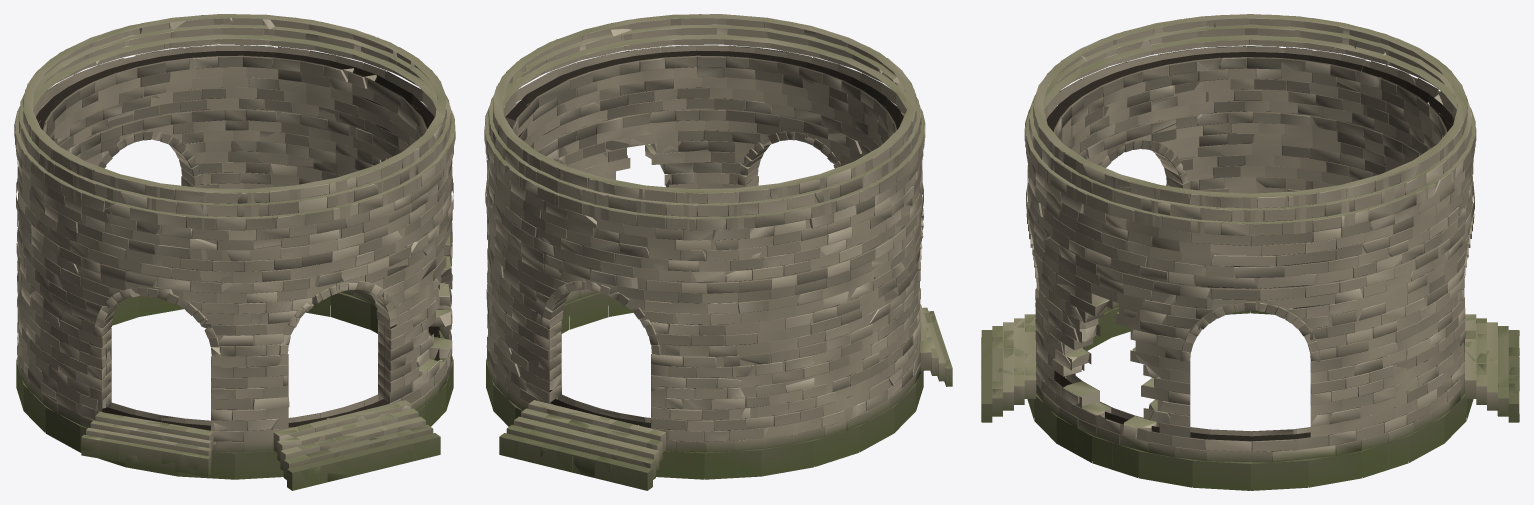
File: baths_rotunda.glb
3 views of the same model, side by side, from view 1: azimuth 30°, elevation 25°; view 2: azimuth 150°, elevation 25°; view 3: azimuth 270°, elevation 25° (orthographic). The views are drawn at different scales.
Parts seen in each view (by area): view 1: baths_rotunda, baths_rotunda_far; view 2: baths_rotunda, baths_rotunda_far; view 3: baths_rotunda, baths_rotunda_far.
Boxes of the visible parts, left/top/right/bottom form: baths_rotunda: left=14, top=14, right=455, bottom=490; baths_rotunda_far: left=15, top=14, right=454, bottom=490; baths_rotunda: left=484, top=14, right=951, bottom=483; baths_rotunda_far: left=485, top=14, right=952, bottom=490; baths_rotunda: left=981, top=14, right=1519, bottom=490; baths_rotunda_far: left=981, top=14, right=1519, bottom=489.
Size of the model in its own units: 77.15 by 53.4 by 89.62.
